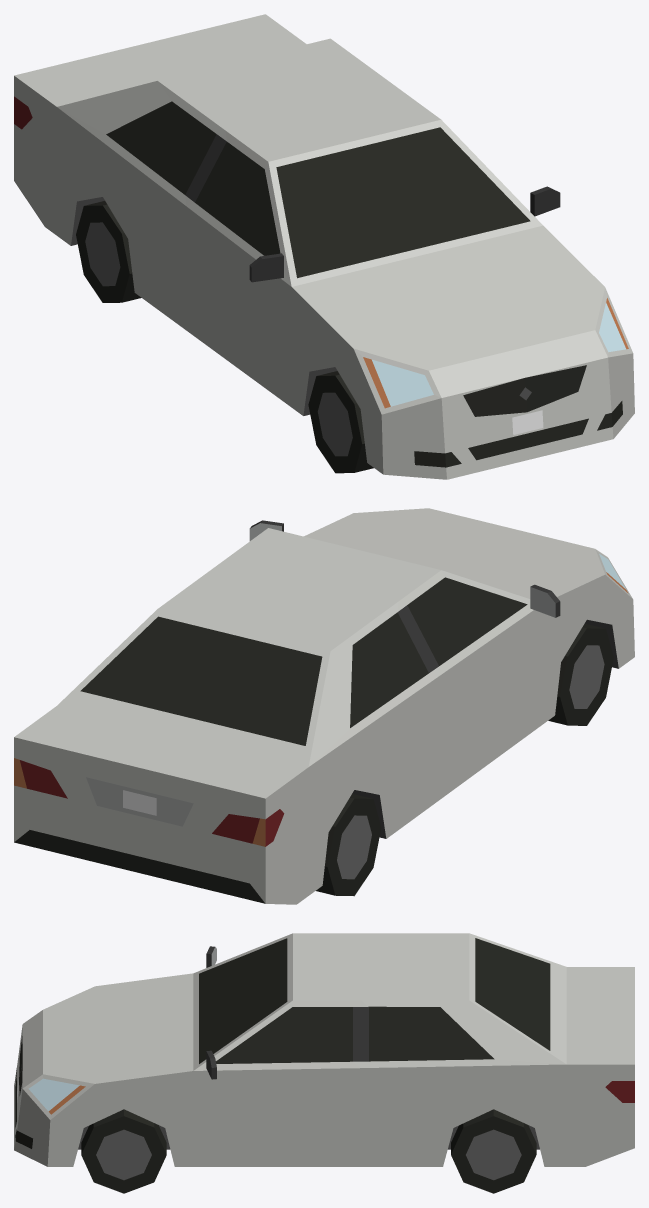
Rendered from Veh_Sedan_03_White.obj.
3 views of the same model, one above another, from view 1: azimuth 30°, elevation 25°; view 2: azimuth 150°, elevation 25°; view 3: azimuth 270°, elevation 25° (orthographic). The views are drawn at different scales.
Bounding box in the file's own units: 1.19 × 0.8272 × 2.61.
